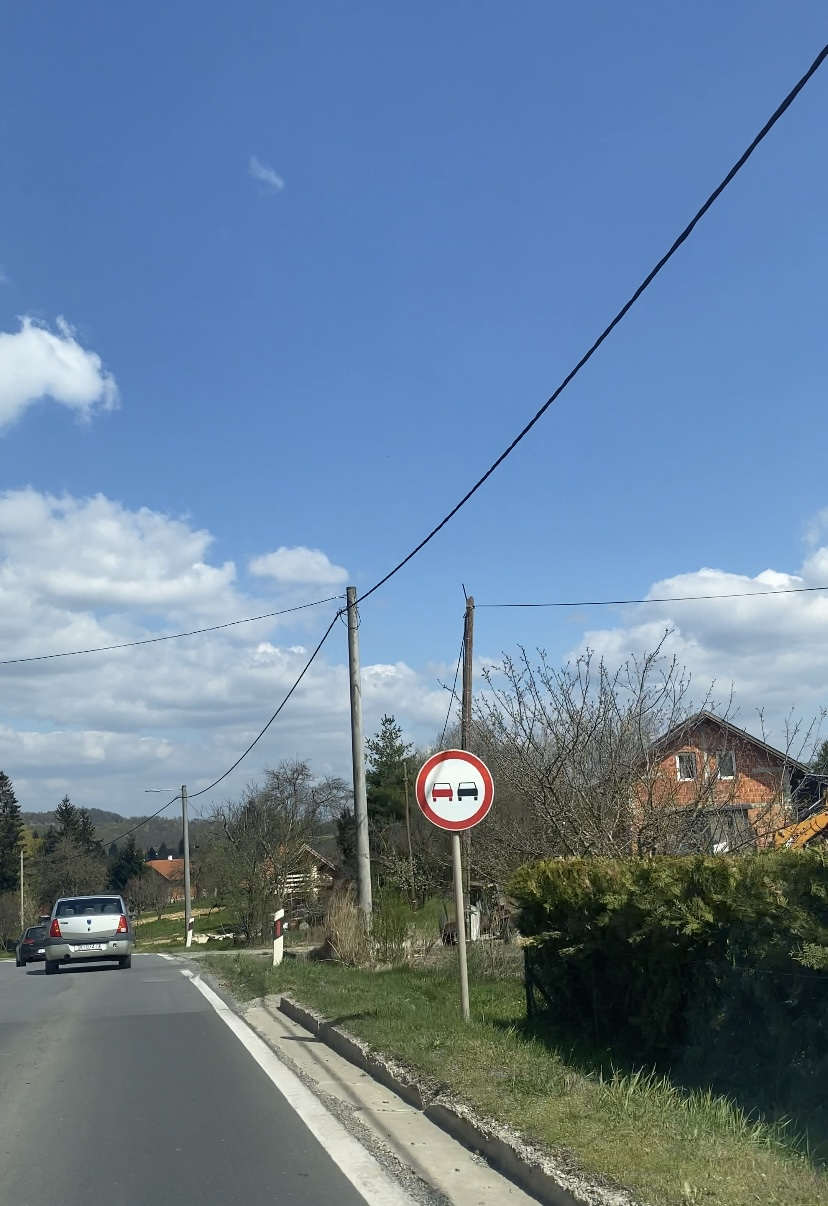Zabrana pretjecanja: (415, 749, 494, 831)
